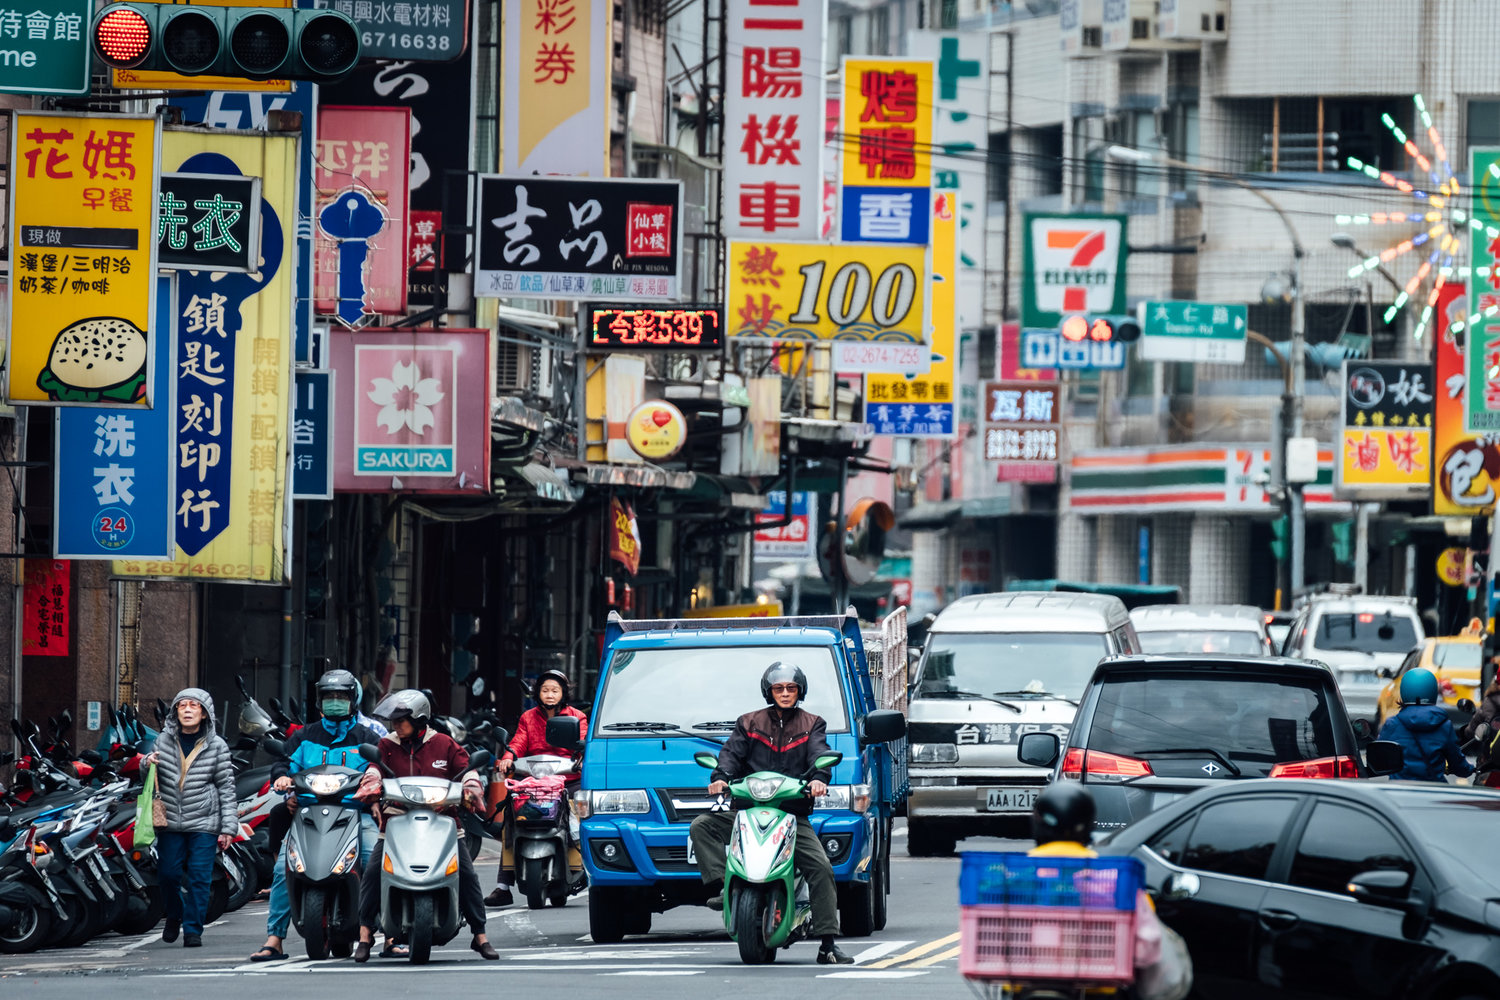car: (908, 583, 1127, 866)
pedestrian: (148, 689, 234, 947), (727, 666, 823, 793)
scooter: (694, 759, 847, 962)
